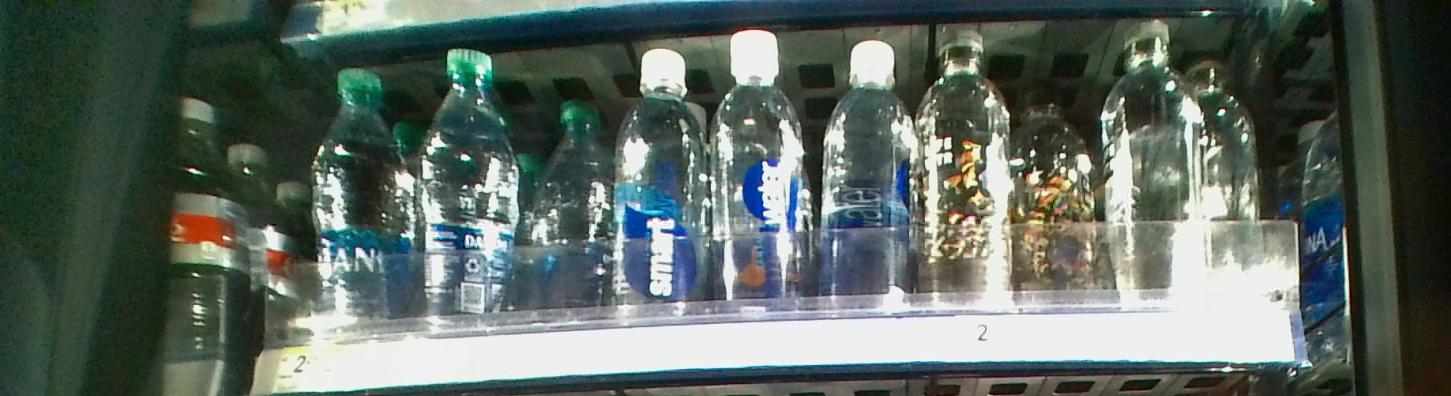bottle: (1104, 14, 1202, 304), (305, 62, 408, 332), (419, 42, 517, 323), (710, 33, 808, 308), (826, 32, 913, 311), (919, 35, 1005, 305), (620, 43, 699, 312), (529, 98, 611, 317), (1013, 77, 1095, 293), (1204, 43, 1264, 303)
